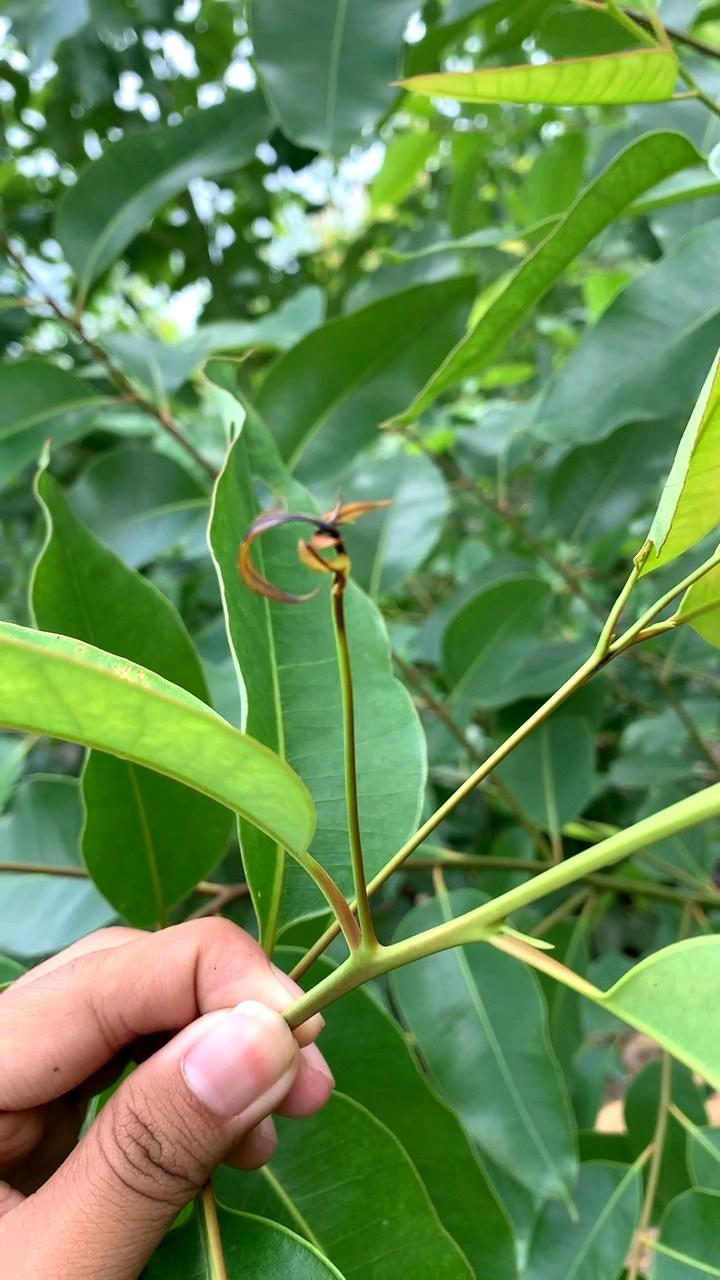Helopeltis-Withered Sprout: (216, 496, 393, 612)
